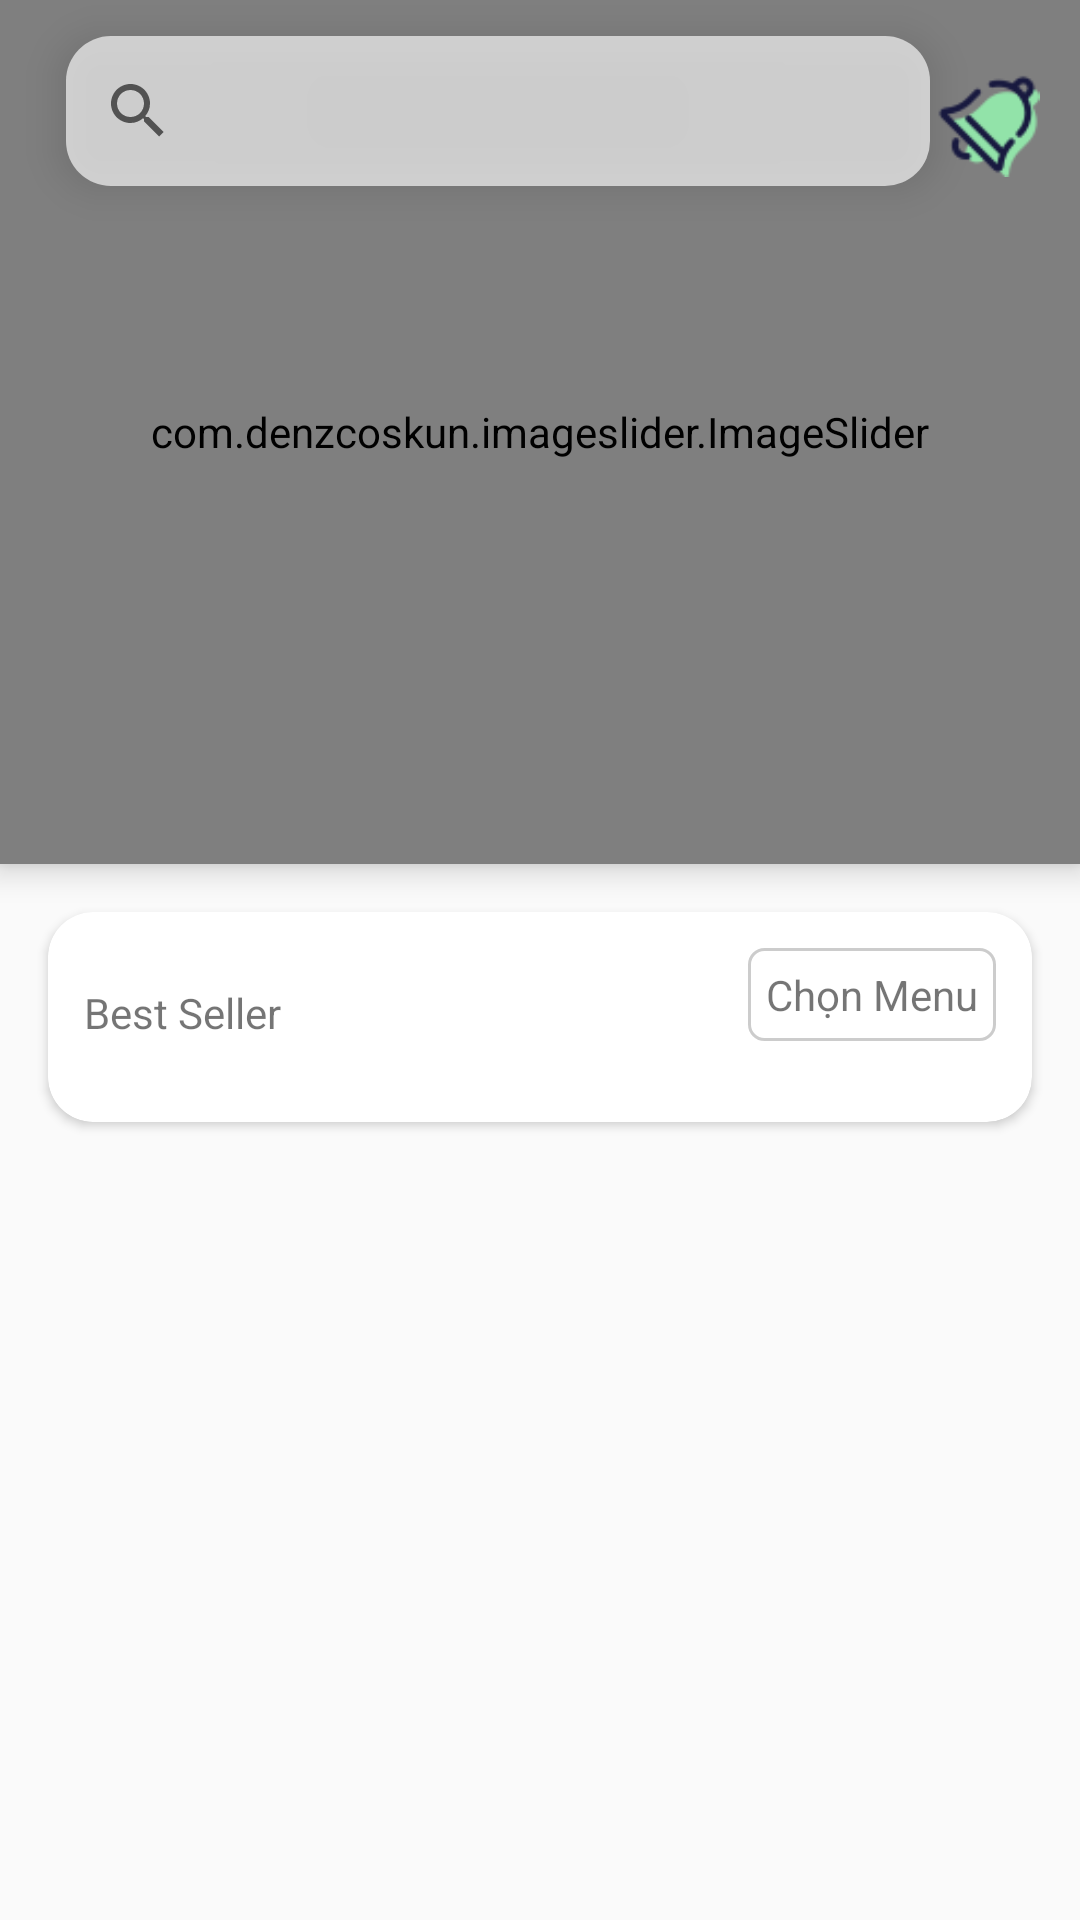

Icons on this 1080px x 1920px Android screen, each with the point to tap as (x,y):
bell: (989,126)
